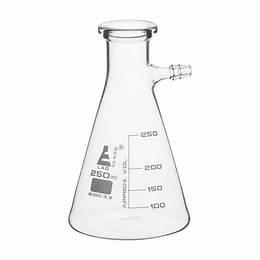Titrarion: (62, 8, 194, 235)
